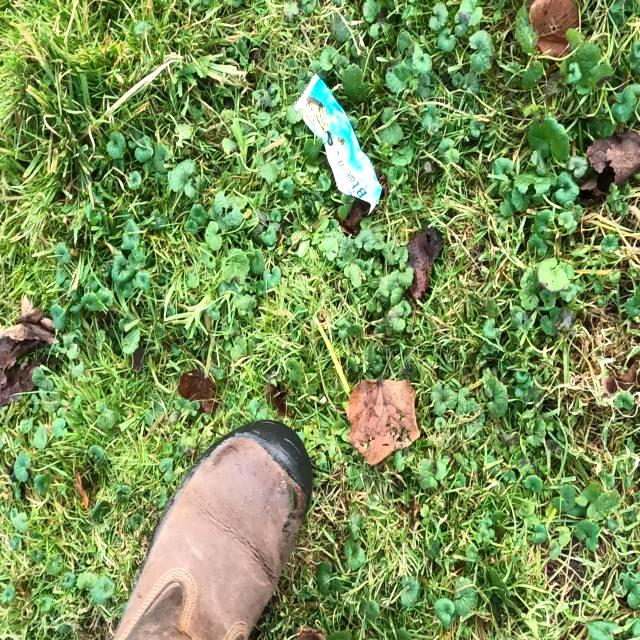Plastic: (293, 71, 383, 217)
